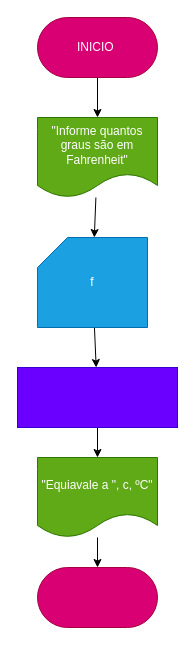
Image size: 195x645. Some labels were removed from this diagram. Each missing label, with the centre of its shape:
c= 5*((f-32)/9): point (97, 397)
FIM: point (97, 597)
